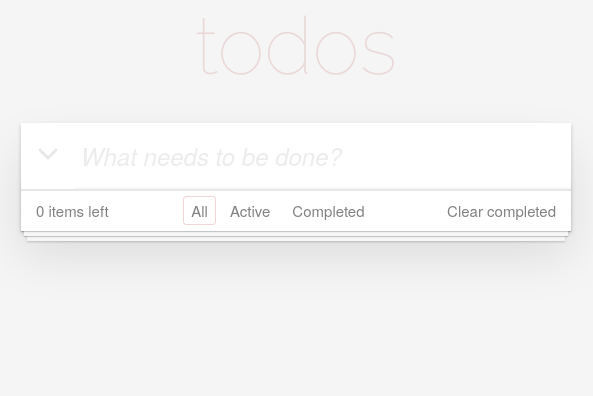
Scenario: App Component › filters tasks correctly when selecting filter in Footer
The width and height of the screenshot is (593, 396).
Type "Active Task" into the field with placeholder "What needs to be done?".
click(323, 156); type("Active Task")  # box [75,123,571,189]
Click the button named "Add task".
click(48, 153)  # box [21,123,75,183]
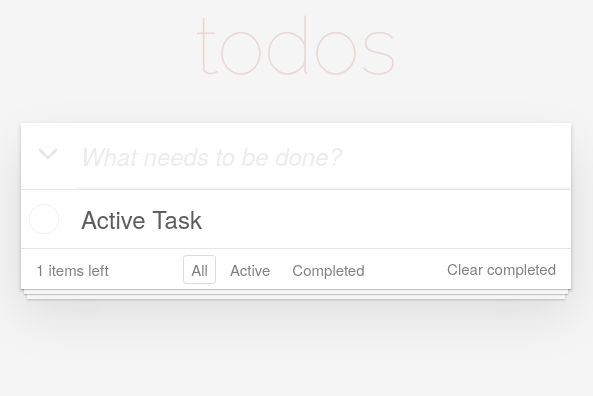
Type "Completed Task" into the field with placeholder "What needs to be done?".
click(323, 156); type("Completed Task")  # box [75,123,571,189]
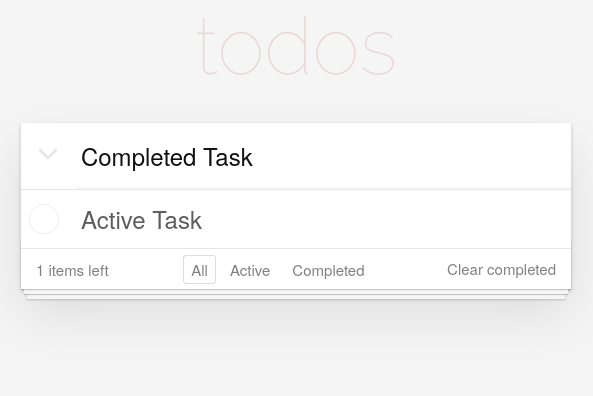
Click the button named "Add task".
click(48, 153)  # box [21,123,75,183]
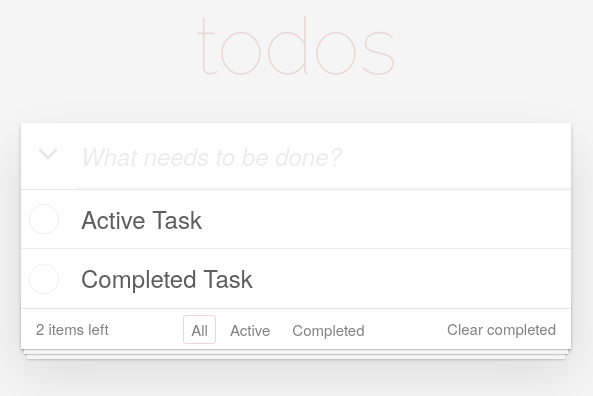
Check: the text "Active Task" is shown, box [81,205,202,233]
Check: the text "Completed Task" is shown, box [81,264,253,293]
Click the checkbox labelled "Completed Task".
click(167, 278)  # box [21,249,571,308]
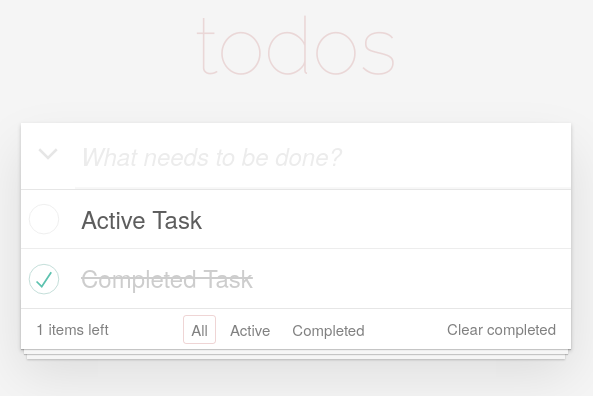
Click the button "Active".
click(250, 329)  # box [222,315,278,344]
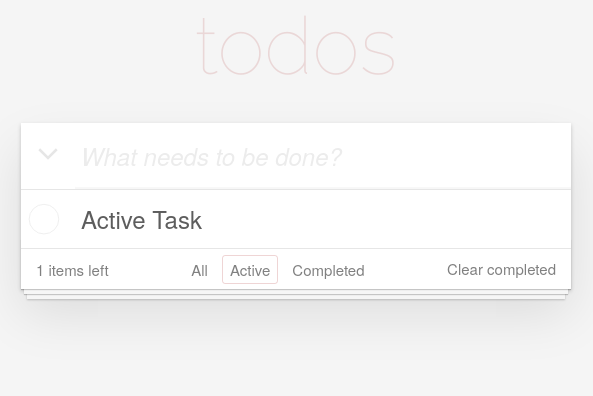
Check: the text "Active Task" is shown, box [81,205,202,233]
Check: the text "Completed Task" is gone
Click the button "Completed".
click(328, 269)  # box [284,255,372,284]
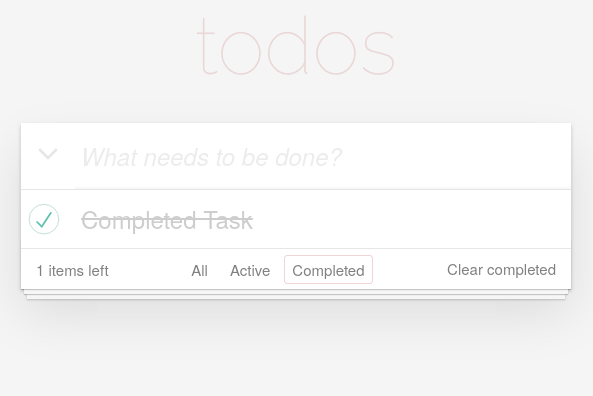
Check: the text "Completed Task" is shown, box [81,205,253,233]
Check: the text "Active Task" is gone
